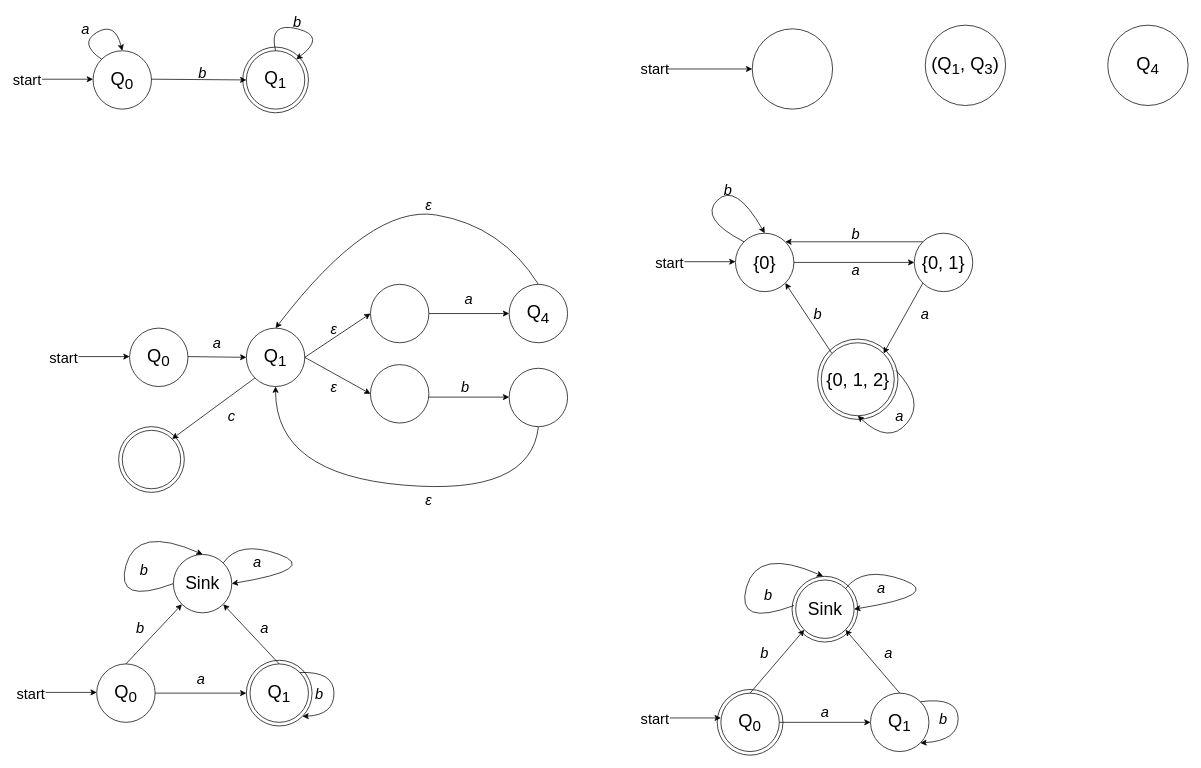
The diagram is 1201 pixels wide and 768 high, and some of its shapes have lost their labels. Each missing label, with the centre of its shape:
(Q 0 , Q 2 ): the point at 792,68
Q 2: the point at 399,313
Q 3: the point at 399,393
Q 5: the point at 538,397
Q 6: the point at 151,459
